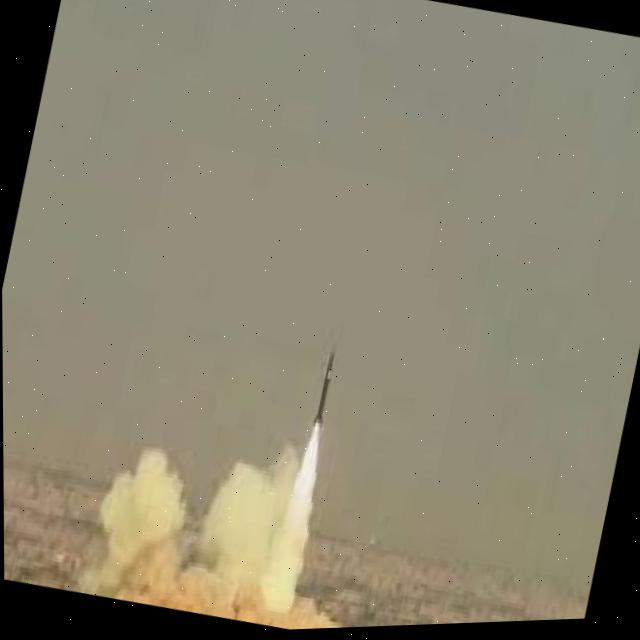missile: (298, 344, 354, 439)
